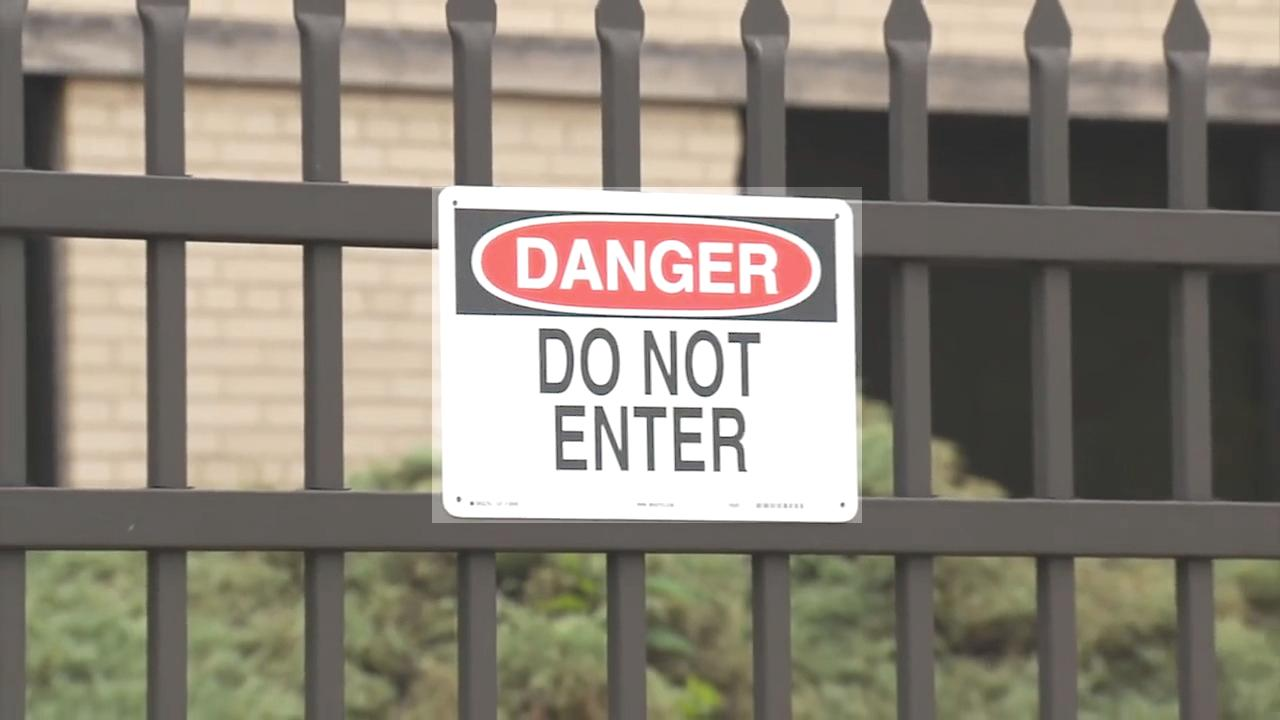safety_signage: (432, 187, 862, 523)
